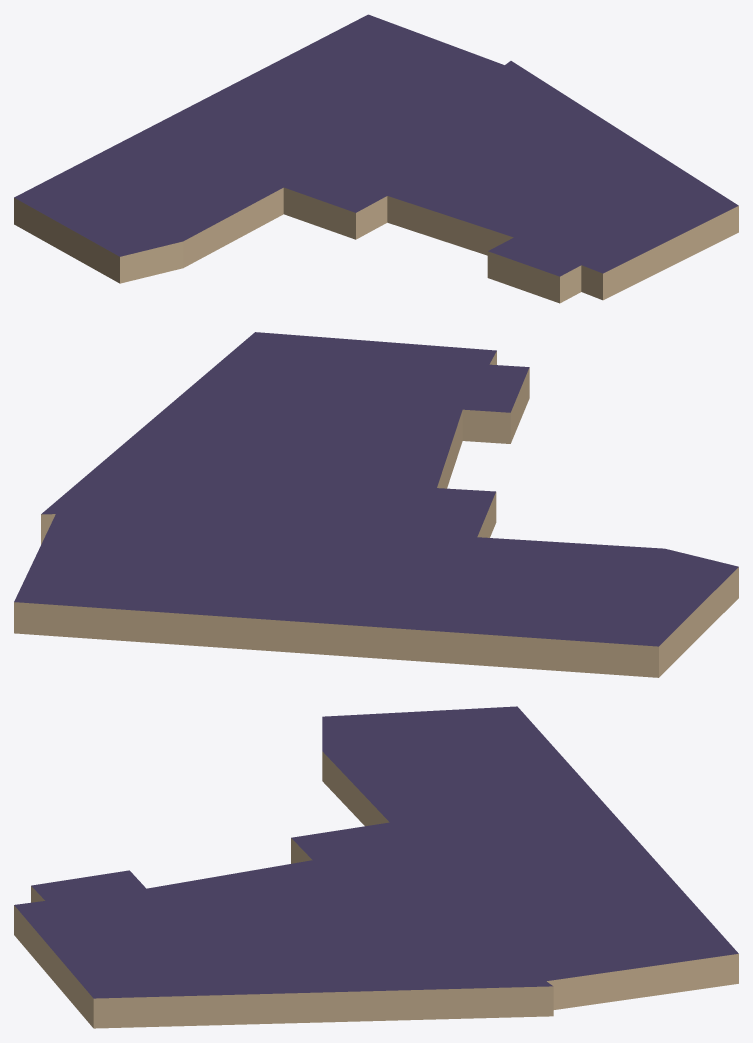
The model's file is b-013-frank-holmes-centre-day.glb.
3 views of the same model, one above another, from view 1: azimuth 30°, elevation 25°; view 2: azimuth 150°, elevation 25°; view 3: azimuth 270°, elevation 25° (orthographic). The views are drawn at different scales.
Parts seen in each view (by area): view 1: campus/b-013-frank-holmes-centre-day-0; view 2: campus/b-013-frank-holmes-centre-day-0; view 3: campus/b-013-frank-holmes-centre-day-0.
Boxes of the visible parts, <box> form: campus/b-013-frank-holmes-centre-day-0: <box>14,14,738,303</box>; campus/b-013-frank-holmes-centre-day-0: <box>14,332,738,677</box>; campus/b-013-frank-holmes-centre-day-0: <box>14,706,738,1028</box>.
Bounding box in the file's own units: 62.66 × 3 × 65.72.
